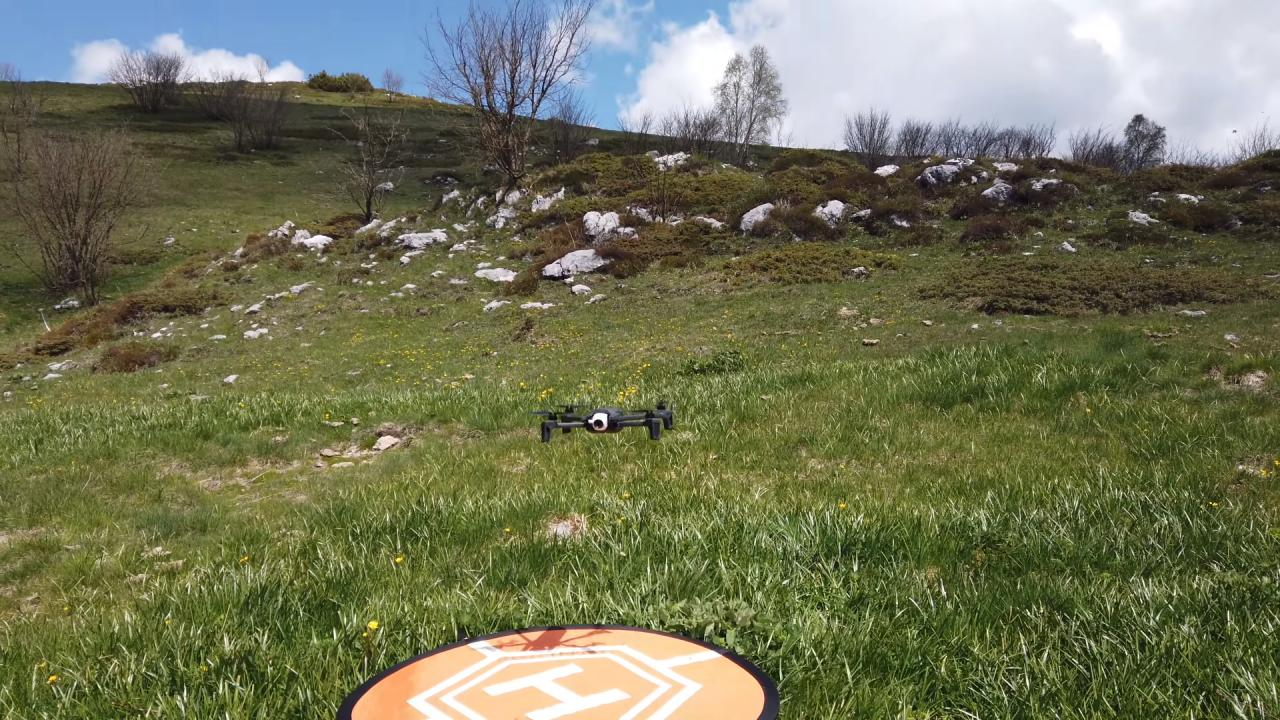Drone: (521, 392, 688, 453)
